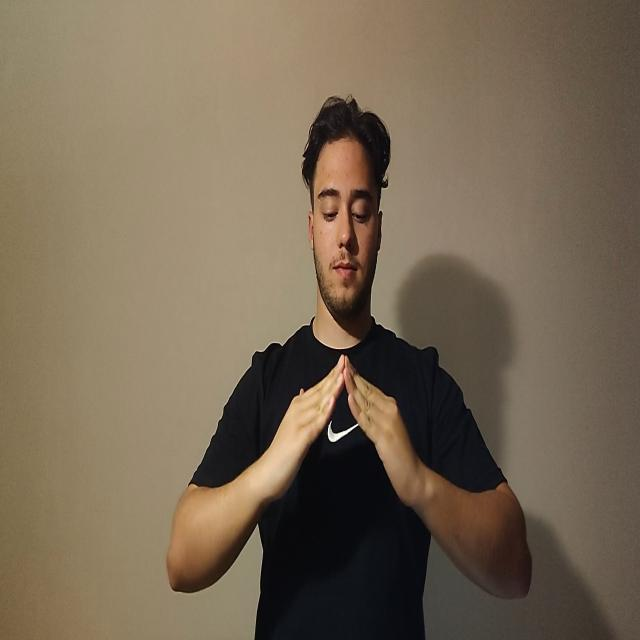house: (262, 354, 416, 516)
